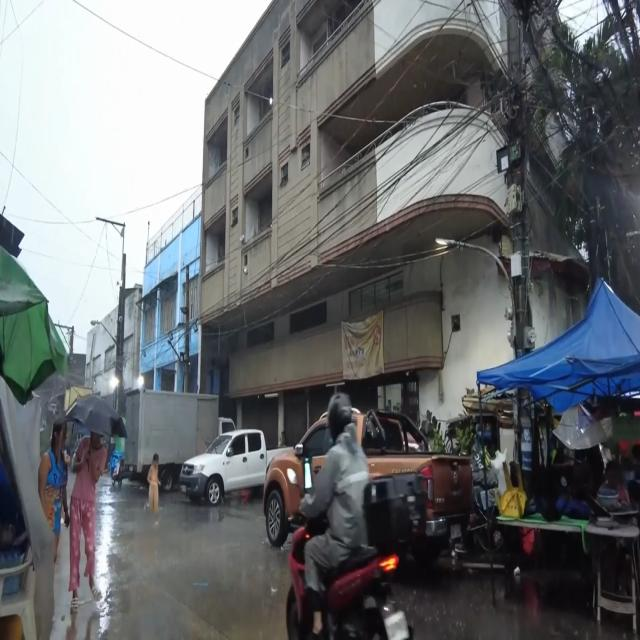full: (327, 390, 351, 440)
